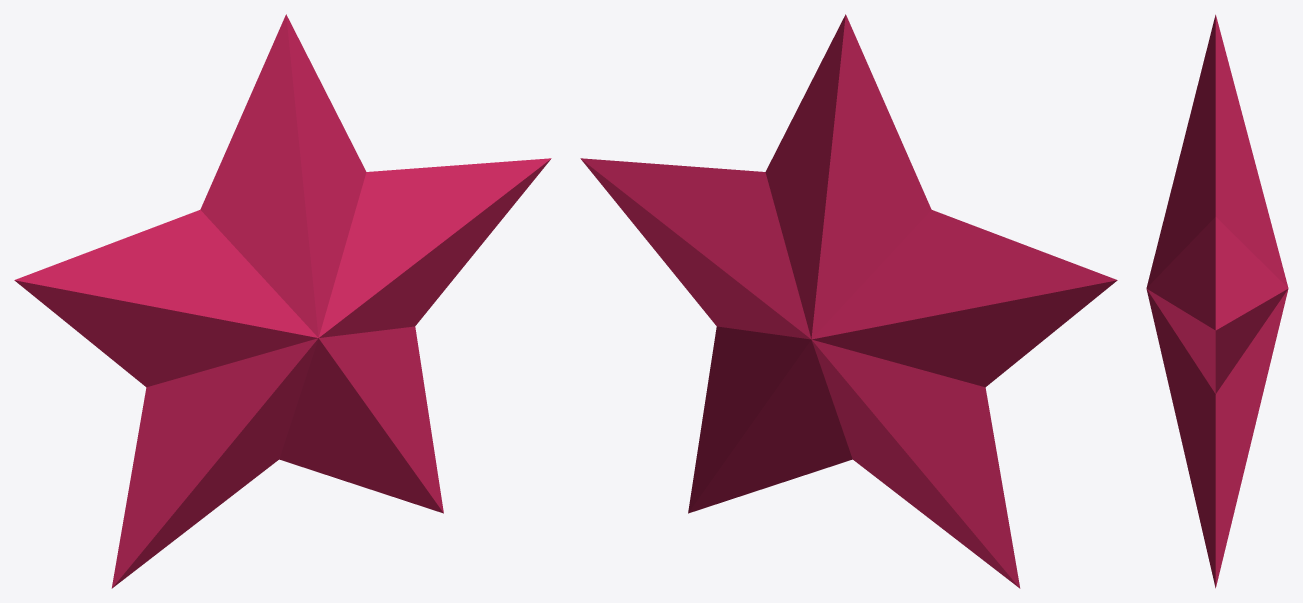
Rendered from star1.fbx.
The picture shows the model from 3 angles, left to right: view 1: azimuth 30°, elevation 25°; view 2: azimuth 150°, elevation 25°; view 3: azimuth 270°, elevation 25°; orthographic projection. The views are drawn at different scales.
Visible parts, largest first — view 1: Star.002; view 2: Star.002; view 3: Star.002.
Part boxes in pixels (<box>): Star.002: <box>14,14,551,588</box>; Star.002: <box>580,14,1117,588</box>; Star.002: <box>1146,14,1288,588</box>.
Bounding box in the file's own units: 146 × 139 × 35.7.
